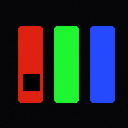1 square: (23, 74, 39, 90)
